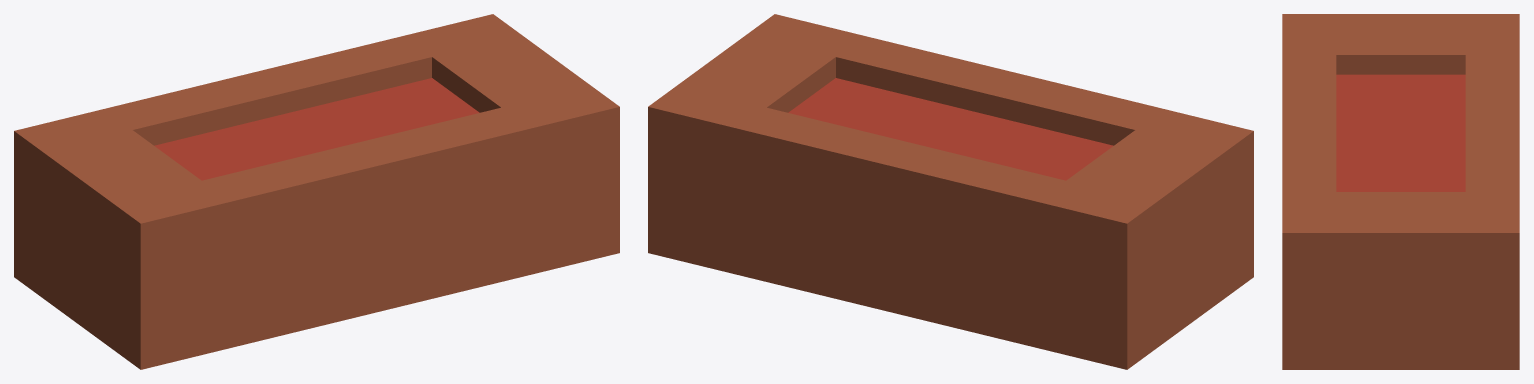
File: brick.glb
The picture shows the model from 3 angles, left to right: view 1: azimuth 30°, elevation 25°; view 2: azimuth 150°, elevation 25°; view 3: azimuth 270°, elevation 25°; orthographic projection. The views are drawn at different scales.
Parts seen in each view (by area): view 1: brick:compound; view 2: brick:compound; view 3: brick:compound.
Boxes of the visible parts, <box> form: brick:compound: <box>14,14,619,369</box>; brick:compound: <box>648,14,1253,369</box>; brick:compound: <box>1282,14,1519,369</box>.
Size of the model in its own units: 0.192 by 0.056 by 0.088.
